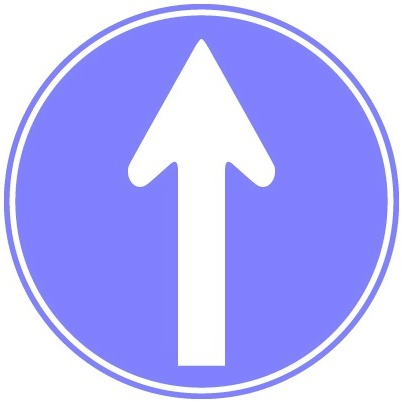Direction_sign: (1, 2, 399, 400)
